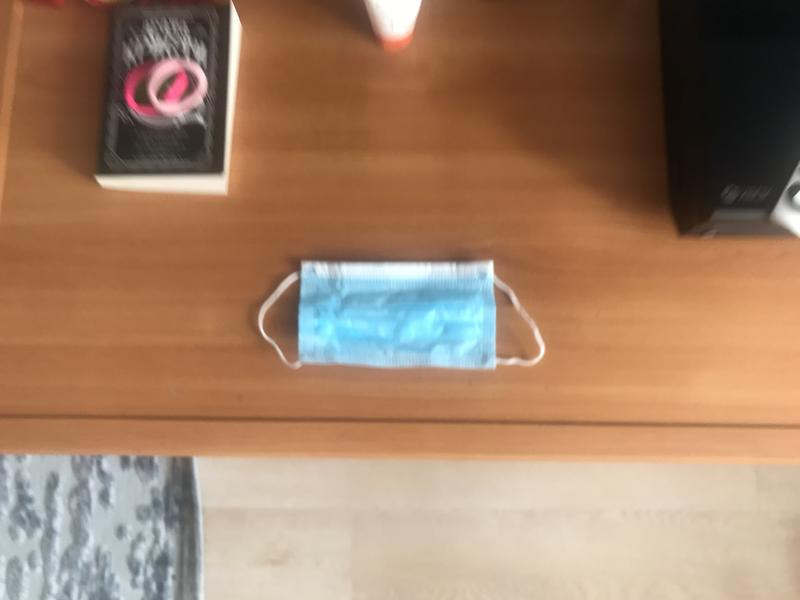medical_mask: (259, 259, 546, 369)
